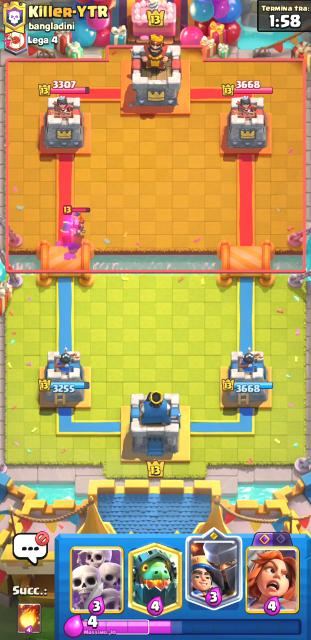enemy_melee: (60, 212, 85, 237)
